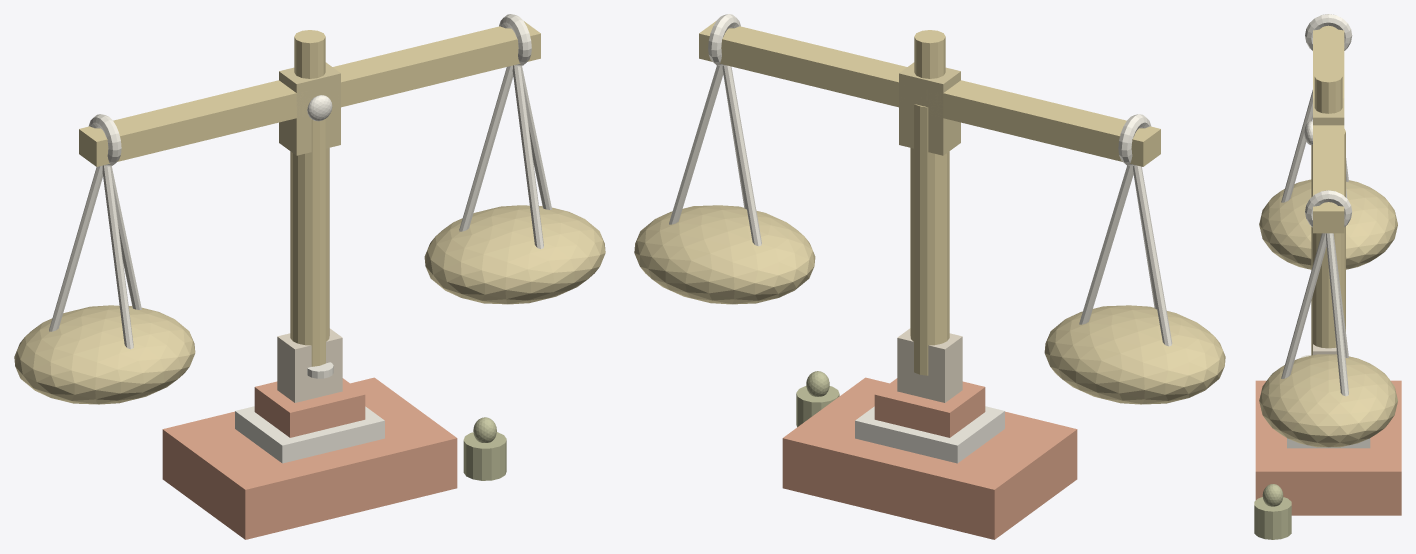
File: scale.glb
3 views of the same model, side by side, from view 1: azimuth 30°, elevation 25°; view 2: azimuth 150°, elevation 25°; view 3: azimuth 270°, elevation 25° (orthographic). The views are drawn at different scales.
Visible parts, largest first — view 1: Base, Beam, Pan_L, Pan_R, Column, Base_Trim, Base_Step, Hinge_Top, Hinge_Low, Weight, Str_L_2, Str_R_2 (+7 smaller); view 2: Base, Beam, Pan_R, Pan_L, Column, Base_Trim, Base_Step, Hinge_Top, Hinge_Low, Str_R_0, Str_L_0, Str_R_1 (+5 smaller); view 3: Base, Pan_R, Pan_L, Beam, Column, Str_R_1, Weight, Str_R_2, Cap, Str_L_2, Loop_R, Loop_L (+4 smaller).
Boxes of the visible parts, bbox=[...] form: Base: bbox=[162, 377, 457, 539]; Beam: bbox=[79, 21, 540, 166]; Pan_L: bbox=[14, 305, 195, 404]; Pan_R: bbox=[424, 205, 605, 304]; Column: bbox=[290, 119, 329, 366]; Base_Trim: bbox=[235, 406, 384, 463]; Base_Step: bbox=[254, 378, 365, 437]; Hinge_Top: bbox=[279, 62, 340, 155]; Hinge_Low: bbox=[277, 328, 342, 402]; Weight: bbox=[463, 432, 506, 480]; Str_L_2: bbox=[102, 165, 133, 349]; Str_R_2: bbox=[512, 65, 543, 248]; Base: bbox=[782, 377, 1077, 539]; Beam: bbox=[699, 21, 1160, 166]; Pan_R: bbox=[634, 205, 815, 304]; Pan_L: bbox=[1044, 305, 1225, 404]; Column: bbox=[910, 104, 949, 375]; Base_Trim: bbox=[855, 406, 1004, 463]; Base_Step: bbox=[874, 378, 985, 437]; Hinge_Top: bbox=[899, 62, 960, 155]; Hinge_Low: bbox=[897, 328, 962, 402]; Str_R_0: bbox=[722, 65, 761, 246]; Str_L_0: bbox=[1133, 165, 1172, 346]; Str_R_1: bbox=[669, 65, 723, 224]; Base: bbox=[1255, 380, 1401, 515]; Pan_R: bbox=[1259, 354, 1397, 447]; Pan_L: bbox=[1259, 179, 1397, 269]; Beam: bbox=[1313, 25, 1344, 233]; Column: bbox=[1311, 129, 1345, 355]; Str_R_1: bbox=[1326, 233, 1348, 396]; Weight: bbox=[1254, 497, 1291, 539]; Str_R_2: bbox=[1281, 233, 1326, 378]; Cap: bbox=[1314, 70, 1342, 113]; Str_L_2: bbox=[1281, 90, 1312, 202]; Loop_R: bbox=[1305, 190, 1352, 227]; Loop_L: bbox=[1305, 14, 1352, 50].
Bounding box in the file's own units: 1.68 × 1.25 × 0.4236.
